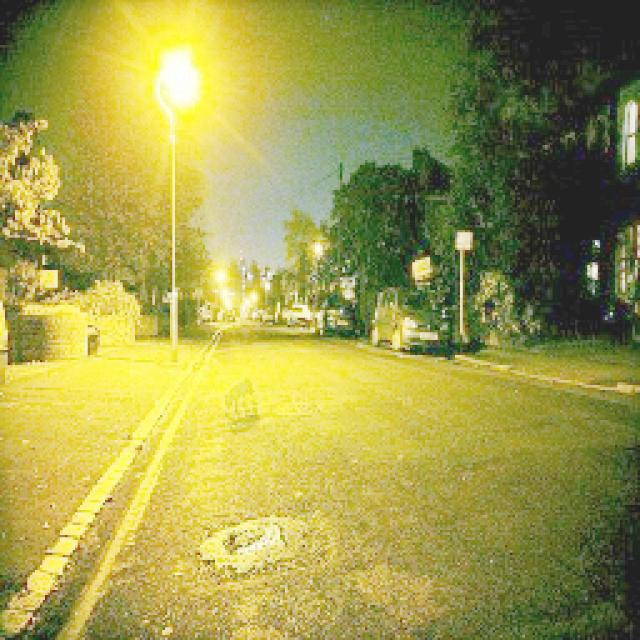cat: (210, 369, 268, 425)
